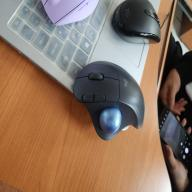mouse: (72, 61, 145, 141), (111, 0, 161, 46), (40, 0, 100, 27)
